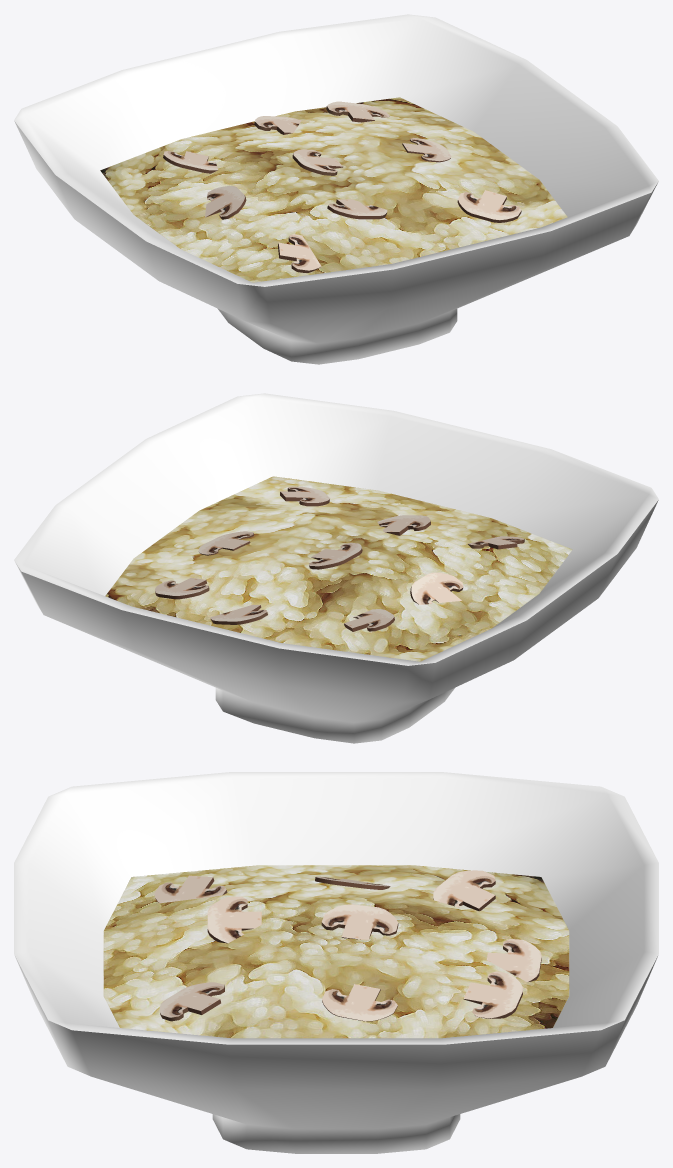
The model's file is mushroomRisotto.fbx.
The picture shows the model from 3 angles, top to bottom: view 1: azimuth 30°, elevation 25°; view 2: azimuth 150°, elevation 25°; view 3: azimuth 270°, elevation 25°; orthographic projection. The views are drawn at different scales.
Parts seen in each view (by area): view 1: MushroomRisotto; view 2: MushroomRisotto; view 3: MushroomRisotto.
Boxes of the visible parts, bbox=[...] form: MushroomRisotto: bbox=[14, 14, 658, 364]; MushroomRisotto: bbox=[14, 393, 658, 743]; MushroomRisotto: bbox=[14, 772, 658, 1153].
Size of the model in its own units: 42.14 by 13.91 by 42.14.
3 materials, 3 textured.
